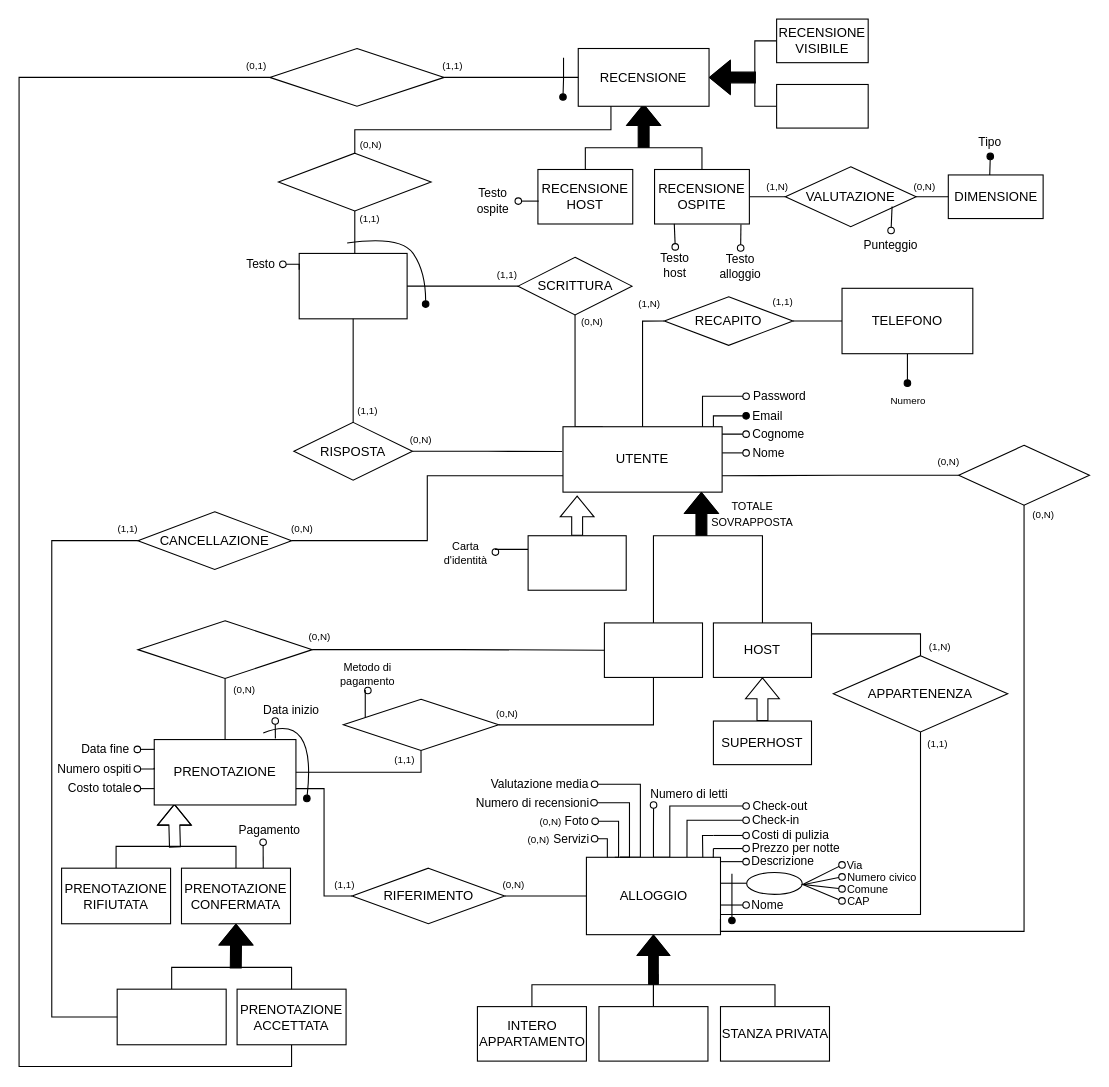
This 1109x1087 diagram has some shape labels left out. Each missing label, with the centre of its shape:
"COMMENTO" belongs at [352,285].
"Indirizzo" belongs at [774,882].
"OSPITATO" belongs at [224,649].
"OSPITE" belongs at [653,649].
"PREFERENZA" belongs at [1023,474].
"PRENOTAZIONE CANCELLATA" belongs at [171,1016].
"RECENSIONE NON VISIBILE" belongs at [822,105].
"RICHIESTA" belongs at [420,724].
"RIGUARDANTE" belongs at [354,181].
"STANZA CONDIVISA" belongs at [653,1033].
"STESURA" belongs at [356,76].
"UTENTE VERIFICATO" belongs at [576,562].
